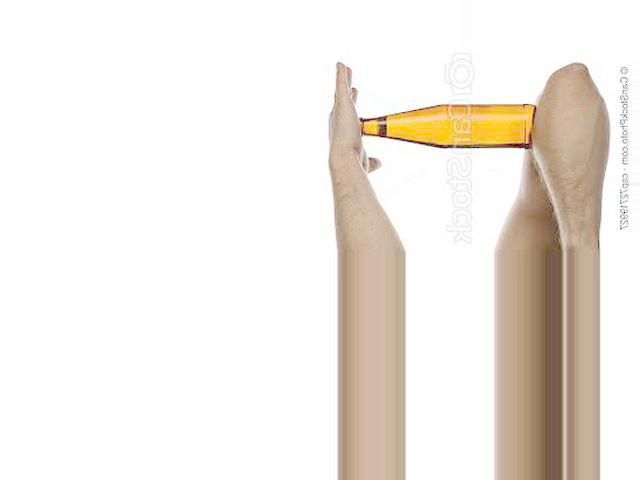beer: (357, 103, 533, 150)
